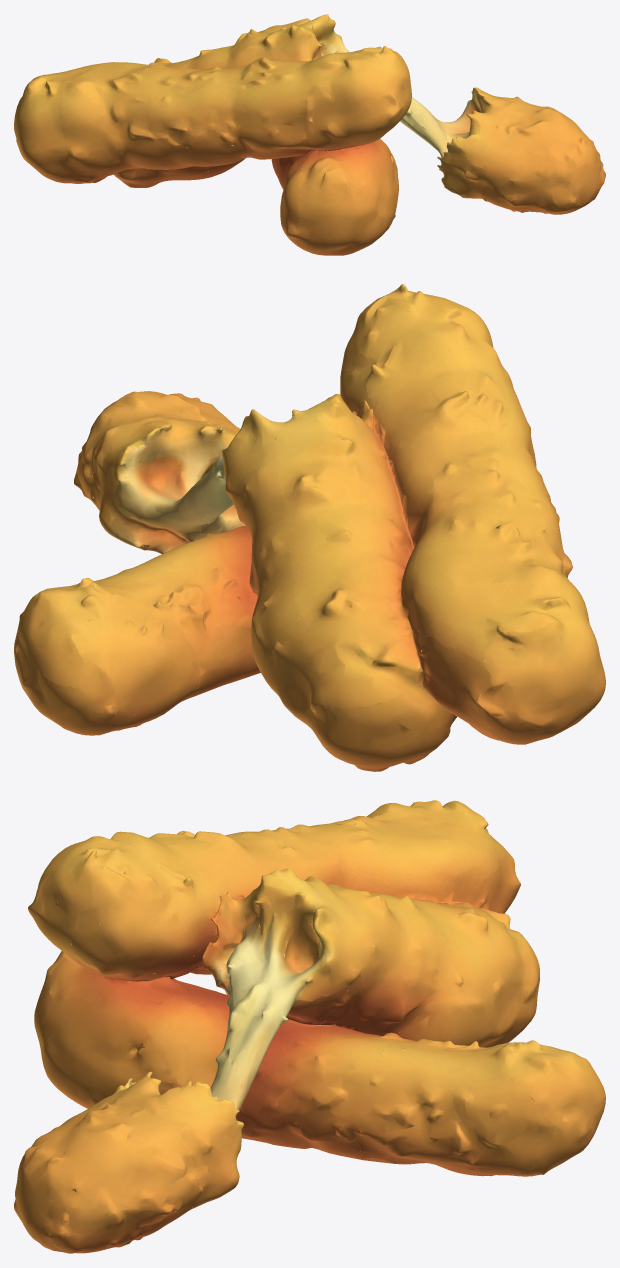
File: mozzarella.glb
3 views of the same model, one above another, from view 1: azimuth 30°, elevation 25°; view 2: azimuth 150°, elevation 25°; view 3: azimuth 270°, elevation 25° (orthographic). The views are drawn at different scales.
Parts seen in each view (by area): view 1: tripo_node_1be0e528-42b2-4477-b2bd-e01003501c28; view 2: tripo_node_1be0e528-42b2-4477-b2bd-e01003501c28; view 3: tripo_node_1be0e528-42b2-4477-b2bd-e01003501c28.
Boxes of the visible parts, x1,y1,x2,y2 form: tripo_node_1be0e528-42b2-4477-b2bd-e01003501c28: [14, 14, 605, 255]; tripo_node_1be0e528-42b2-4477-b2bd-e01003501c28: [14, 284, 605, 771]; tripo_node_1be0e528-42b2-4477-b2bd-e01003501c28: [14, 800, 605, 1253].
Bounding box in the file's own units: 1 × 0.4256 × 0.7956.
Materials: 1 (1 with a texture image).
